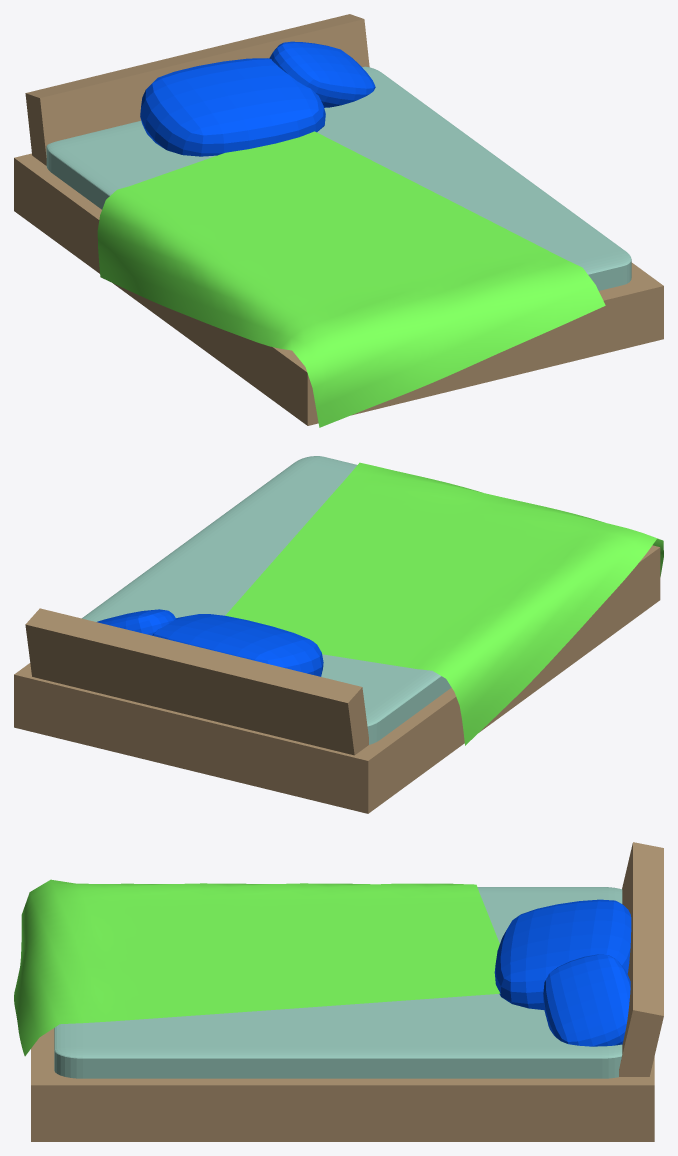
Rendered from BasicBed1.fbx.
The picture shows the model from 3 angles, top to bottom: view 1: azimuth 30°, elevation 25°; view 2: azimuth 150°, elevation 25°; view 3: azimuth 270°, elevation 25°; orthographic projection. The views are drawn at different scales.
Parts seen in each view (by area): view 1: Plane, Cube.001, Cube, Cube.003, Cube.002, Cube.004; view 2: Plane, Cube, Cube.002, Cube.001, Cube.003, Cube.004; view 3: Plane, Cube, Cube.001, Cube.003, Cube.002, Cube.004.
Boxes of the visible parts, x1,y1,x2,y2 form: Plane: (97, 131, 605, 427); Cube.001: (46, 66, 631, 290); Cube: (14, 153, 663, 425); Cube.003: (140, 58, 325, 156); Cube.002: (25, 14, 369, 165); Cube.004: (269, 41, 375, 107); Plane: (225, 462, 663, 745); Cube: (14, 545, 660, 813); Cube.002: (25, 608, 368, 755); Cube.001: (82, 456, 451, 744); Cube.003: (152, 614, 323, 676); Cube.004: (97, 609, 175, 635); Plane: (14, 879, 500, 1056); Cube: (31, 1028, 654, 1141); Cube.001: (54, 887, 622, 1078); Cube.003: (494, 899, 631, 1010); Cube.002: (619, 842, 663, 1076); Cube.004: (543, 954, 630, 1046).
Size of the model in its own units: 834 by 185 by 575.
